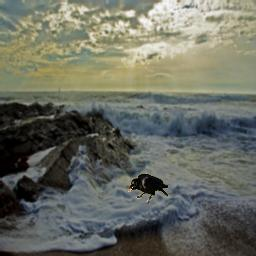Crow: (128, 173, 168, 204)
